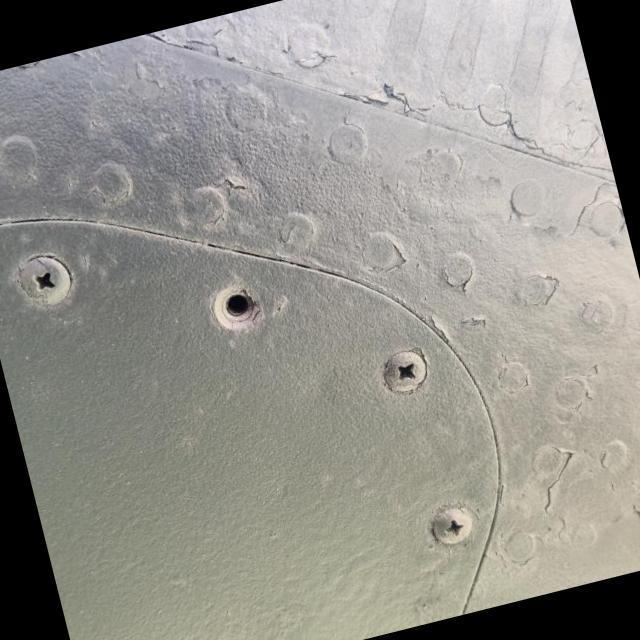Fastener Damage: (158, 231, 310, 380)
